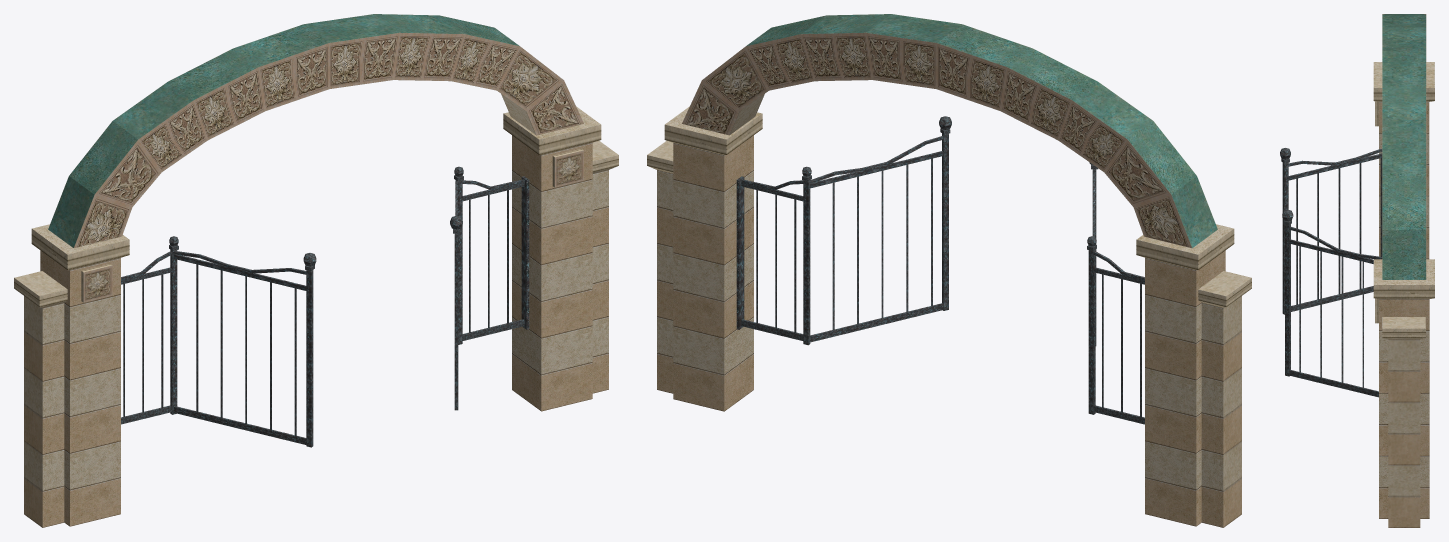
File: thm_nboo_imprv_wide_gate_s02_l1.fbx
3 renders of one model, left to right at view 1: azimuth 30°, elevation 25°; view 2: azimuth 150°, elevation 25°; view 3: azimuth 270°, elevation 25°, orthographic. The views are drawn at different scales.
Parts seen in each view (by area): view 1: mesh_node; view 2: mesh_node; view 3: mesh_node.
Boxes of the visible parts, x1,y1,x2,y2 form: mesh_node: [14, 14, 618, 527]; mesh_node: [647, 14, 1251, 527]; mesh_node: [1280, 14, 1434, 527].
Size of the model in its own units: 16.55 by 11.42 by 4.47.
